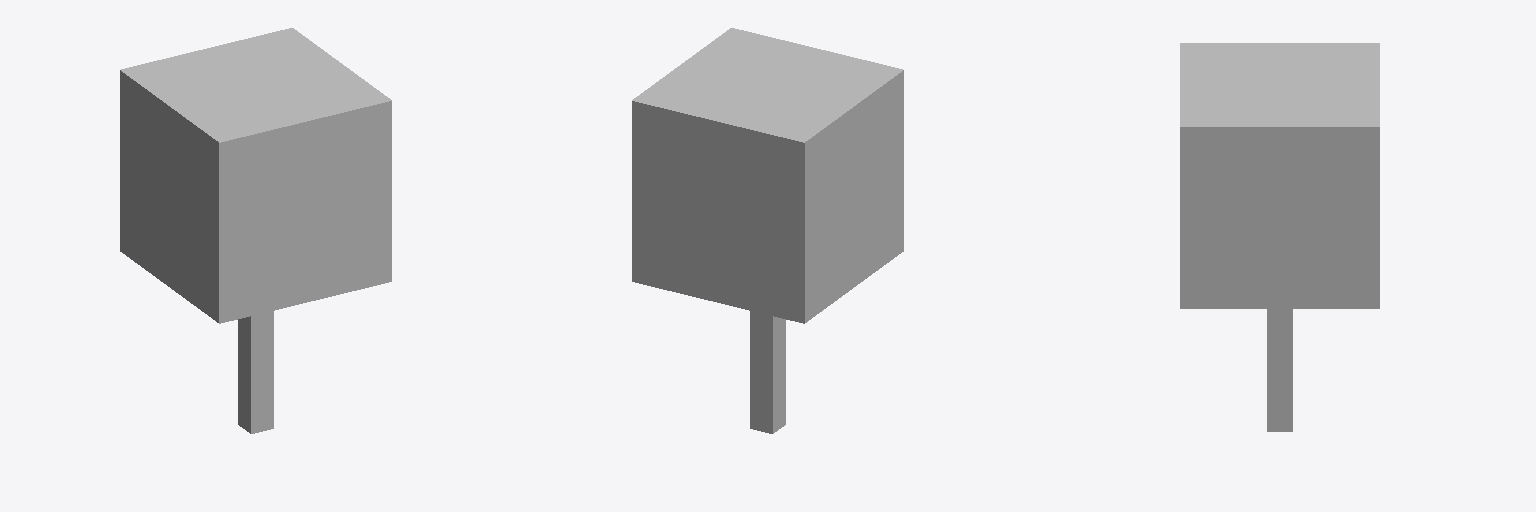
The model's file is simpleTree.obj.
3 views of the same model, side by side, from view 1: azimuth 30°, elevation 25°; view 2: azimuth 150°, elevation 25°; view 3: azimuth 270°, elevation 25° (orthographic).
Visible parts, largest first — view 1: Cube.001, Cube; view 2: Cube.001, Cube; view 3: Cube.001, Cube.
Part boxes in pixels (x1,y1,x2,y2): Cube.001: (120,28,391,323); Cube: (238,311,273,433); Cube.001: (632,28,903,323); Cube: (750,311,785,433); Cube.001: (1180,43,1379,308); Cube: (1267,309,1292,431).
Bounding box in the file's own units: 15.23 × 28.73 × 15.23.